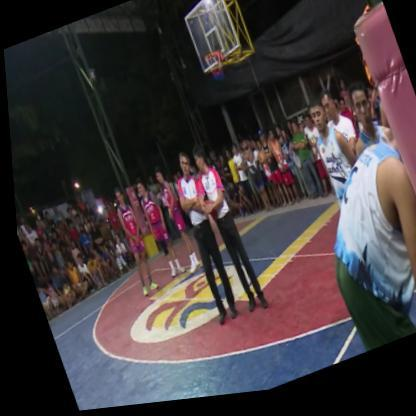basketball: (196, 197, 216, 228)
rim: (197, 45, 233, 95)
